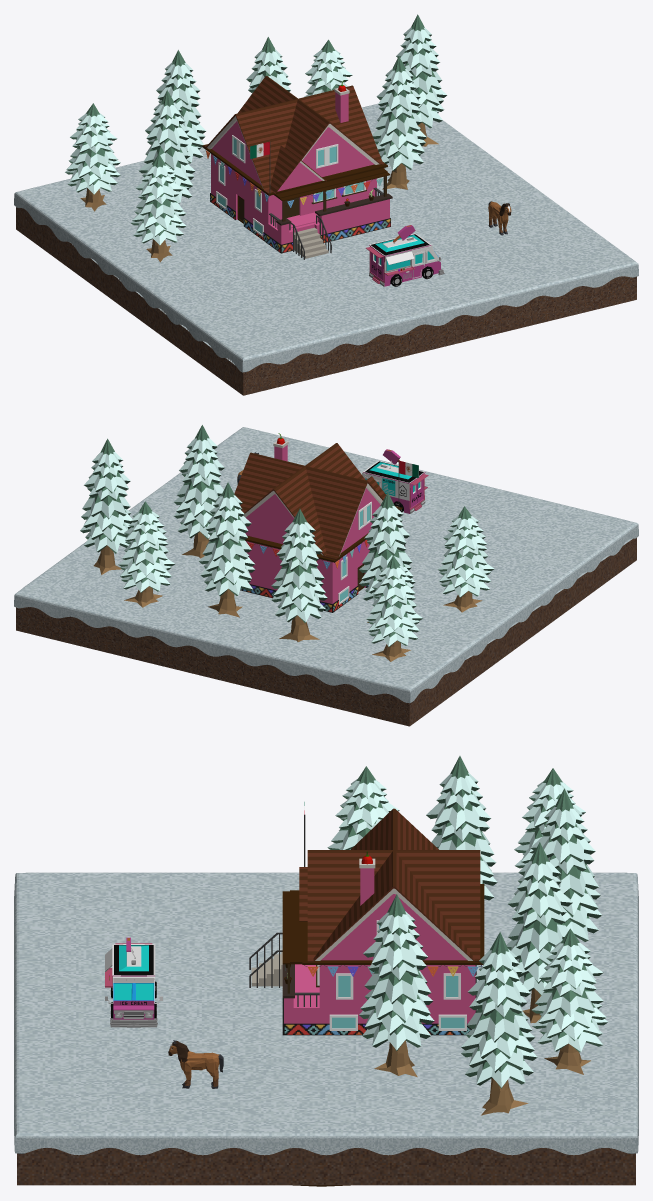
3 views of the same model, one above another, from view 1: azimuth 30°, elevation 25°; view 2: azimuth 150°, elevation 25°; view 3: azimuth 270°, elevation 25° (orthographic). The views are drawn at different scales.
Parts seen in each view (by area): view 1: Cube.003, Cube.1005, VEHICLES_ICE_CREAM_TRUCK, ANIMAL_CABALLO; view 2: Cube.003, Cube.1005, VEHICLES_ICE_CREAM_TRUCK; view 3: Cube.003, Cube.1005, VEHICLES_ICE_CREAM_TRUCK, ANIMAL_CABALLO.
Boxes of the visible parts, x1,y1,x2,y2 form: Cube.003: (14, 14, 638, 395); Cube.1005: (202, 76, 392, 259); VEHICLES_ICE_CREAM_TRUCK: (366, 225, 444, 286); ANIMAL_CABALLO: (488, 201, 511, 235); Cube.003: (14, 425, 638, 726); Cube.1005: (234, 433, 418, 612); VEHICLES_ICE_CREAM_TRUCK: (362, 449, 428, 513); Cube.003: (14, 756, 638, 1185); Cube.1005: (249, 802, 484, 1035); VEHICLES_ICE_CREAM_TRUCK: (105, 937, 162, 1027); ANIMAL_CABALLO: (168, 1040, 223, 1088).
Size of the model in its own units: 4040 by 1758 by 4040.
Materials: 75 (5 with a texture image).
